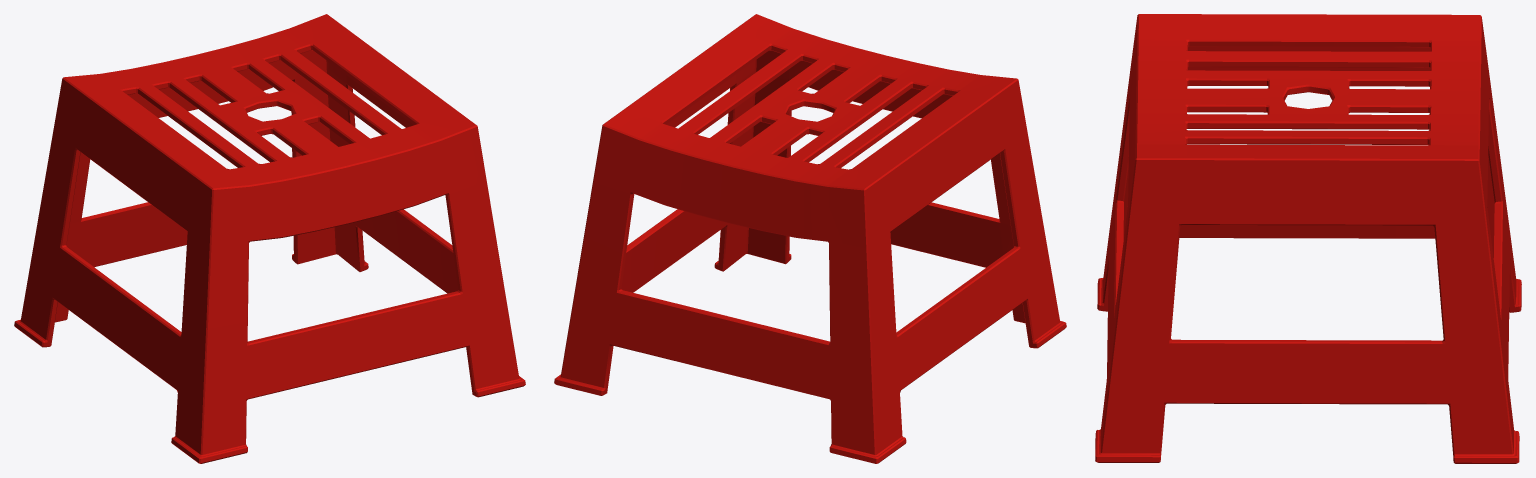
File: plchair.obj
3 renders of one model, left to right at view 1: azimuth 30°, elevation 25°; view 2: azimuth 150°, elevation 25°; view 3: azimuth 270°, elevation 25°, orthographic. The views are drawn at different scales.
Visible parts, largest first — view 1: Cube.001_Cube; view 2: Cube.001_Cube; view 3: Cube.001_Cube.
Boxes of the visible parts, x1,y1,x2,y2 form: Cube.001_Cube: [14, 14, 525, 463]; Cube.001_Cube: [554, 14, 1066, 463]; Cube.001_Cube: [1095, 14, 1521, 463].
Size of the model in its own units: 0.8984 by 0.6721 by 0.8984.
